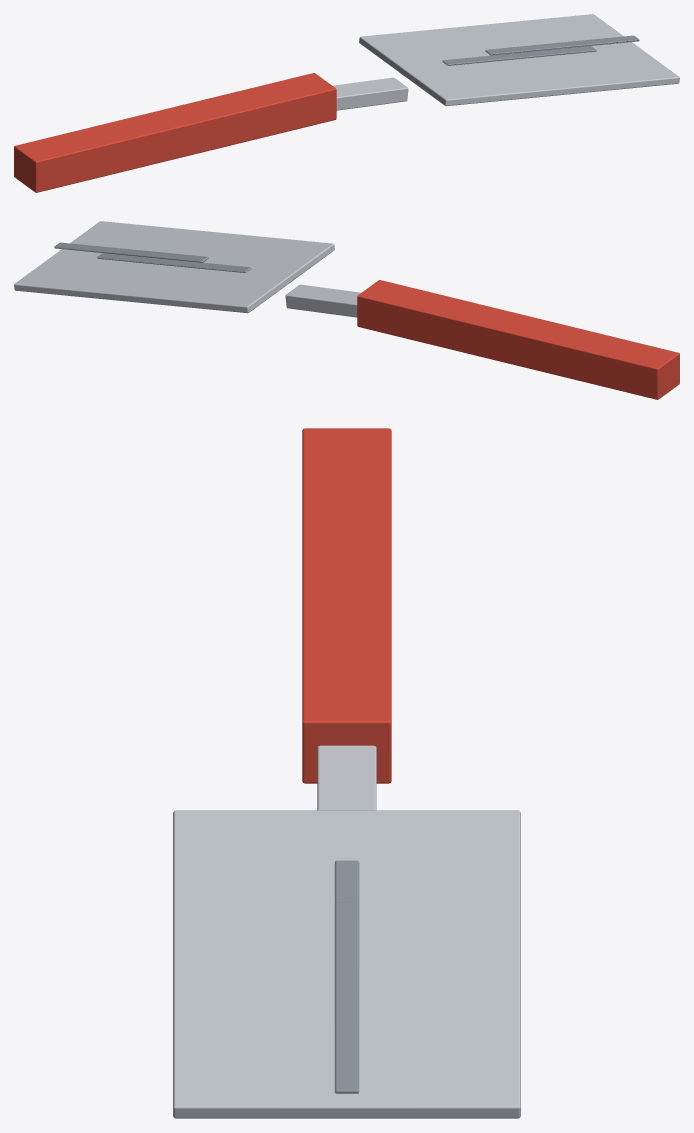
File: Spatula.glb
The picture shows the model from 3 angles, top to bottom: view 1: azimuth 30°, elevation 25°; view 2: azimuth 150°, elevation 25°; view 3: azimuth 270°, elevation 25°; orthographic projection. The views are drawn at different scales.
Visible parts, largest first — view 1: Spatula; view 2: Spatula; view 3: Spatula.
Boxes of the visible parts, x1,y1,x2,y2 form: Spatula: (14,14,679,192); Spatula: (14,221,679,399); Spatula: (173,428,520,1118).
Bounding box in the file's own units: 0.2847 × 0.0211 × 0.07.
